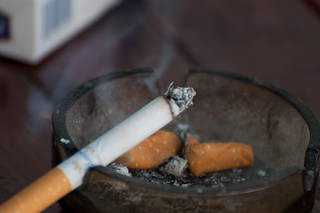cigarette: (0, 81, 198, 212), (184, 131, 255, 177), (113, 127, 183, 170)
